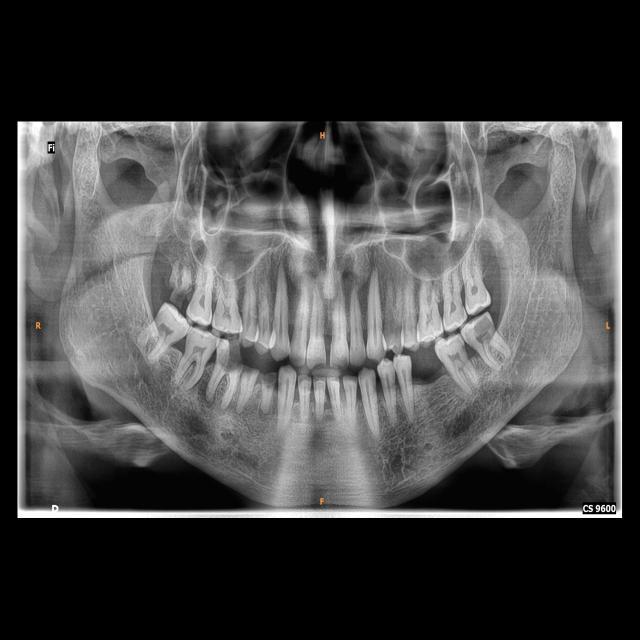dentin-curugu: (213, 332, 244, 371), (469, 313, 499, 345), (174, 274, 194, 310)
kirik: (258, 366, 279, 391), (241, 360, 261, 383)
